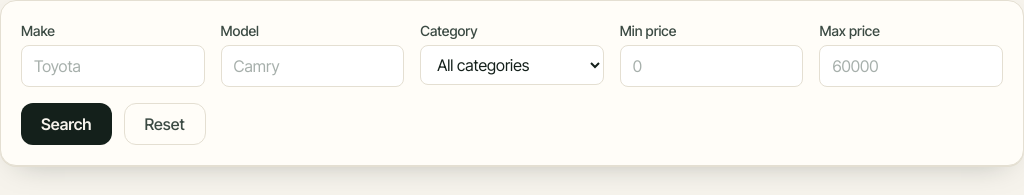
Test: SearchFilters › resets every field and re-runs an empty search
Type "Ford" into the field labelled "Make".
click(113, 66); type("Ford")  # box [21,45,205,87]
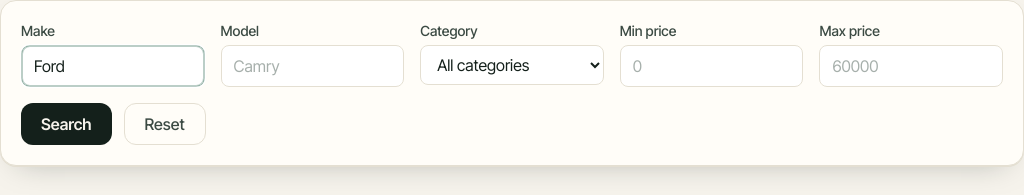
Click the button "Reset".
click(165, 124)  # box [124,103,206,145]
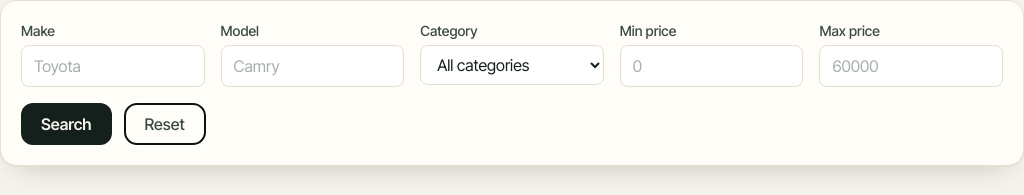
Now the field labelled "Make" is empty, box [21,45,205,87]
